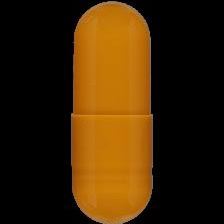63187-720: (0, 0, 224, 224)
